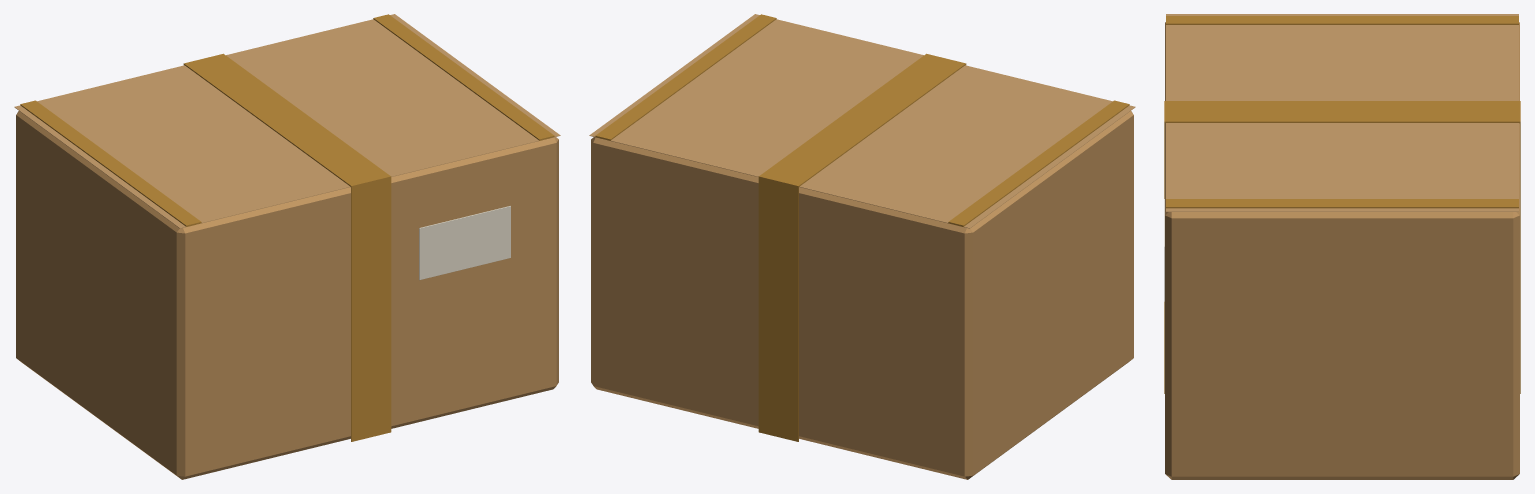
File: sealed-parcel.glb
3 renders of one model, left to right at view 1: azimuth 30°, elevation 25°; view 2: azimuth 150°, elevation 25°; view 3: azimuth 270°, elevation 25°, orthographic. The views are drawn at different scales.
Parts seen in each view (by area): view 1: sealed-parcel__material_02, sealed-parcel__material_04, sealed-parcel__material_01, sealed-parcel__material_00; view 2: sealed-parcel__material_02, sealed-parcel__material_04, sealed-parcel__material_01; view 3: sealed-parcel__material_02, sealed-parcel__material_04, sealed-parcel__material_01.
Boxes of the visible parts, x1,y1,x2,y2 form: sealed-parcel__material_02: (16,111,558,479); sealed-parcel__material_04: (14,14,560,228); sealed-parcel__material_01: (20,14,554,441); sealed-parcel__material_00: (419,206,510,280); sealed-parcel__material_02: (591,111,1133,479); sealed-parcel__material_04: (589,14,1135,228); sealed-parcel__material_01: (595,14,1129,441); sealed-parcel__material_02: (1165,22,1519,479); sealed-parcel__material_04: (1166,14,1518,211); sealed-parcel__material_01: (1164,16,1520,393).
Bounding box in the file's own units: 0.5 × 0.32 × 0.38.
